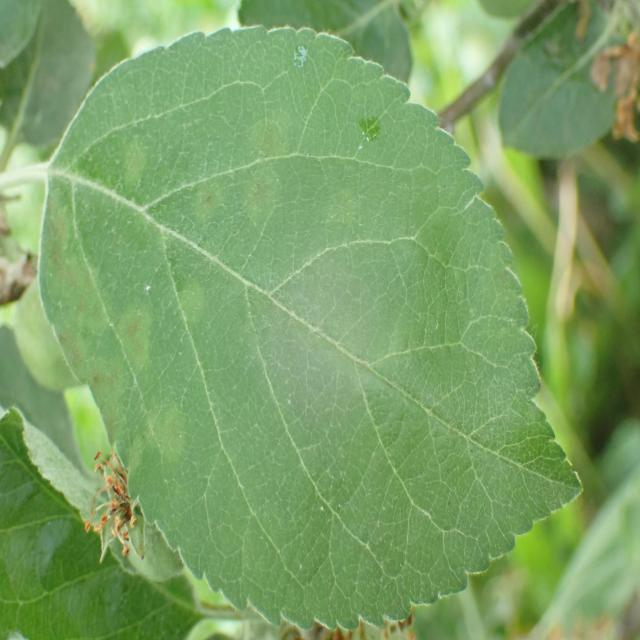scab: (46, 44, 509, 504)
